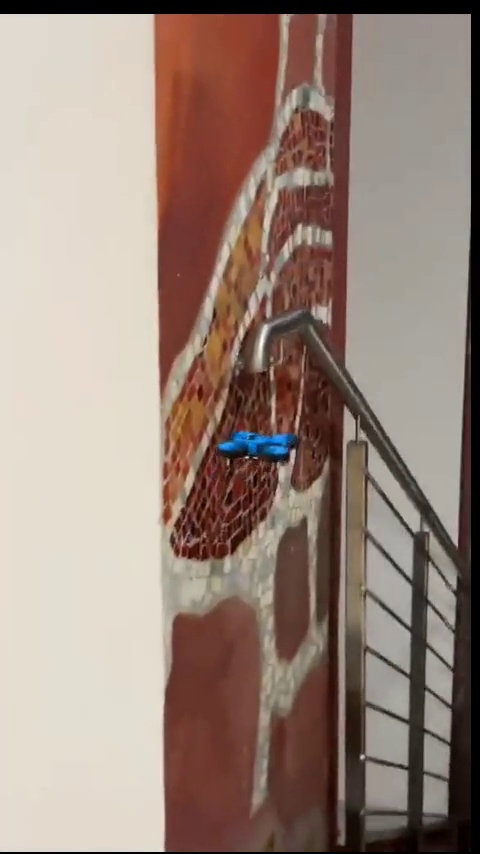drone: (207, 430, 300, 455)
